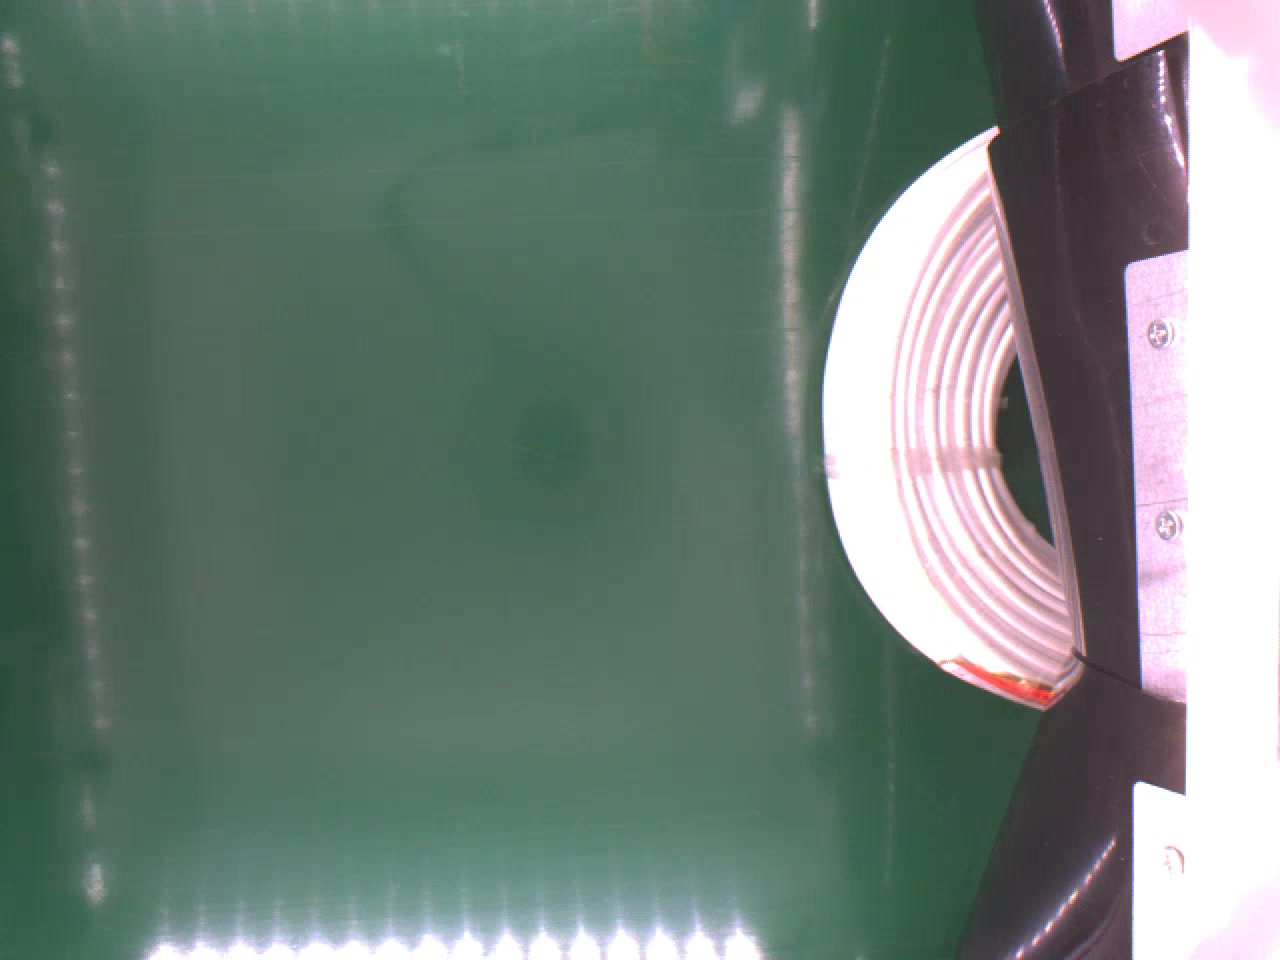white: (821, 123, 1070, 709)
